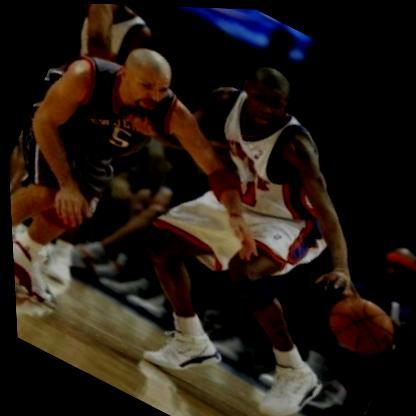basketball: (311, 282, 405, 369)
